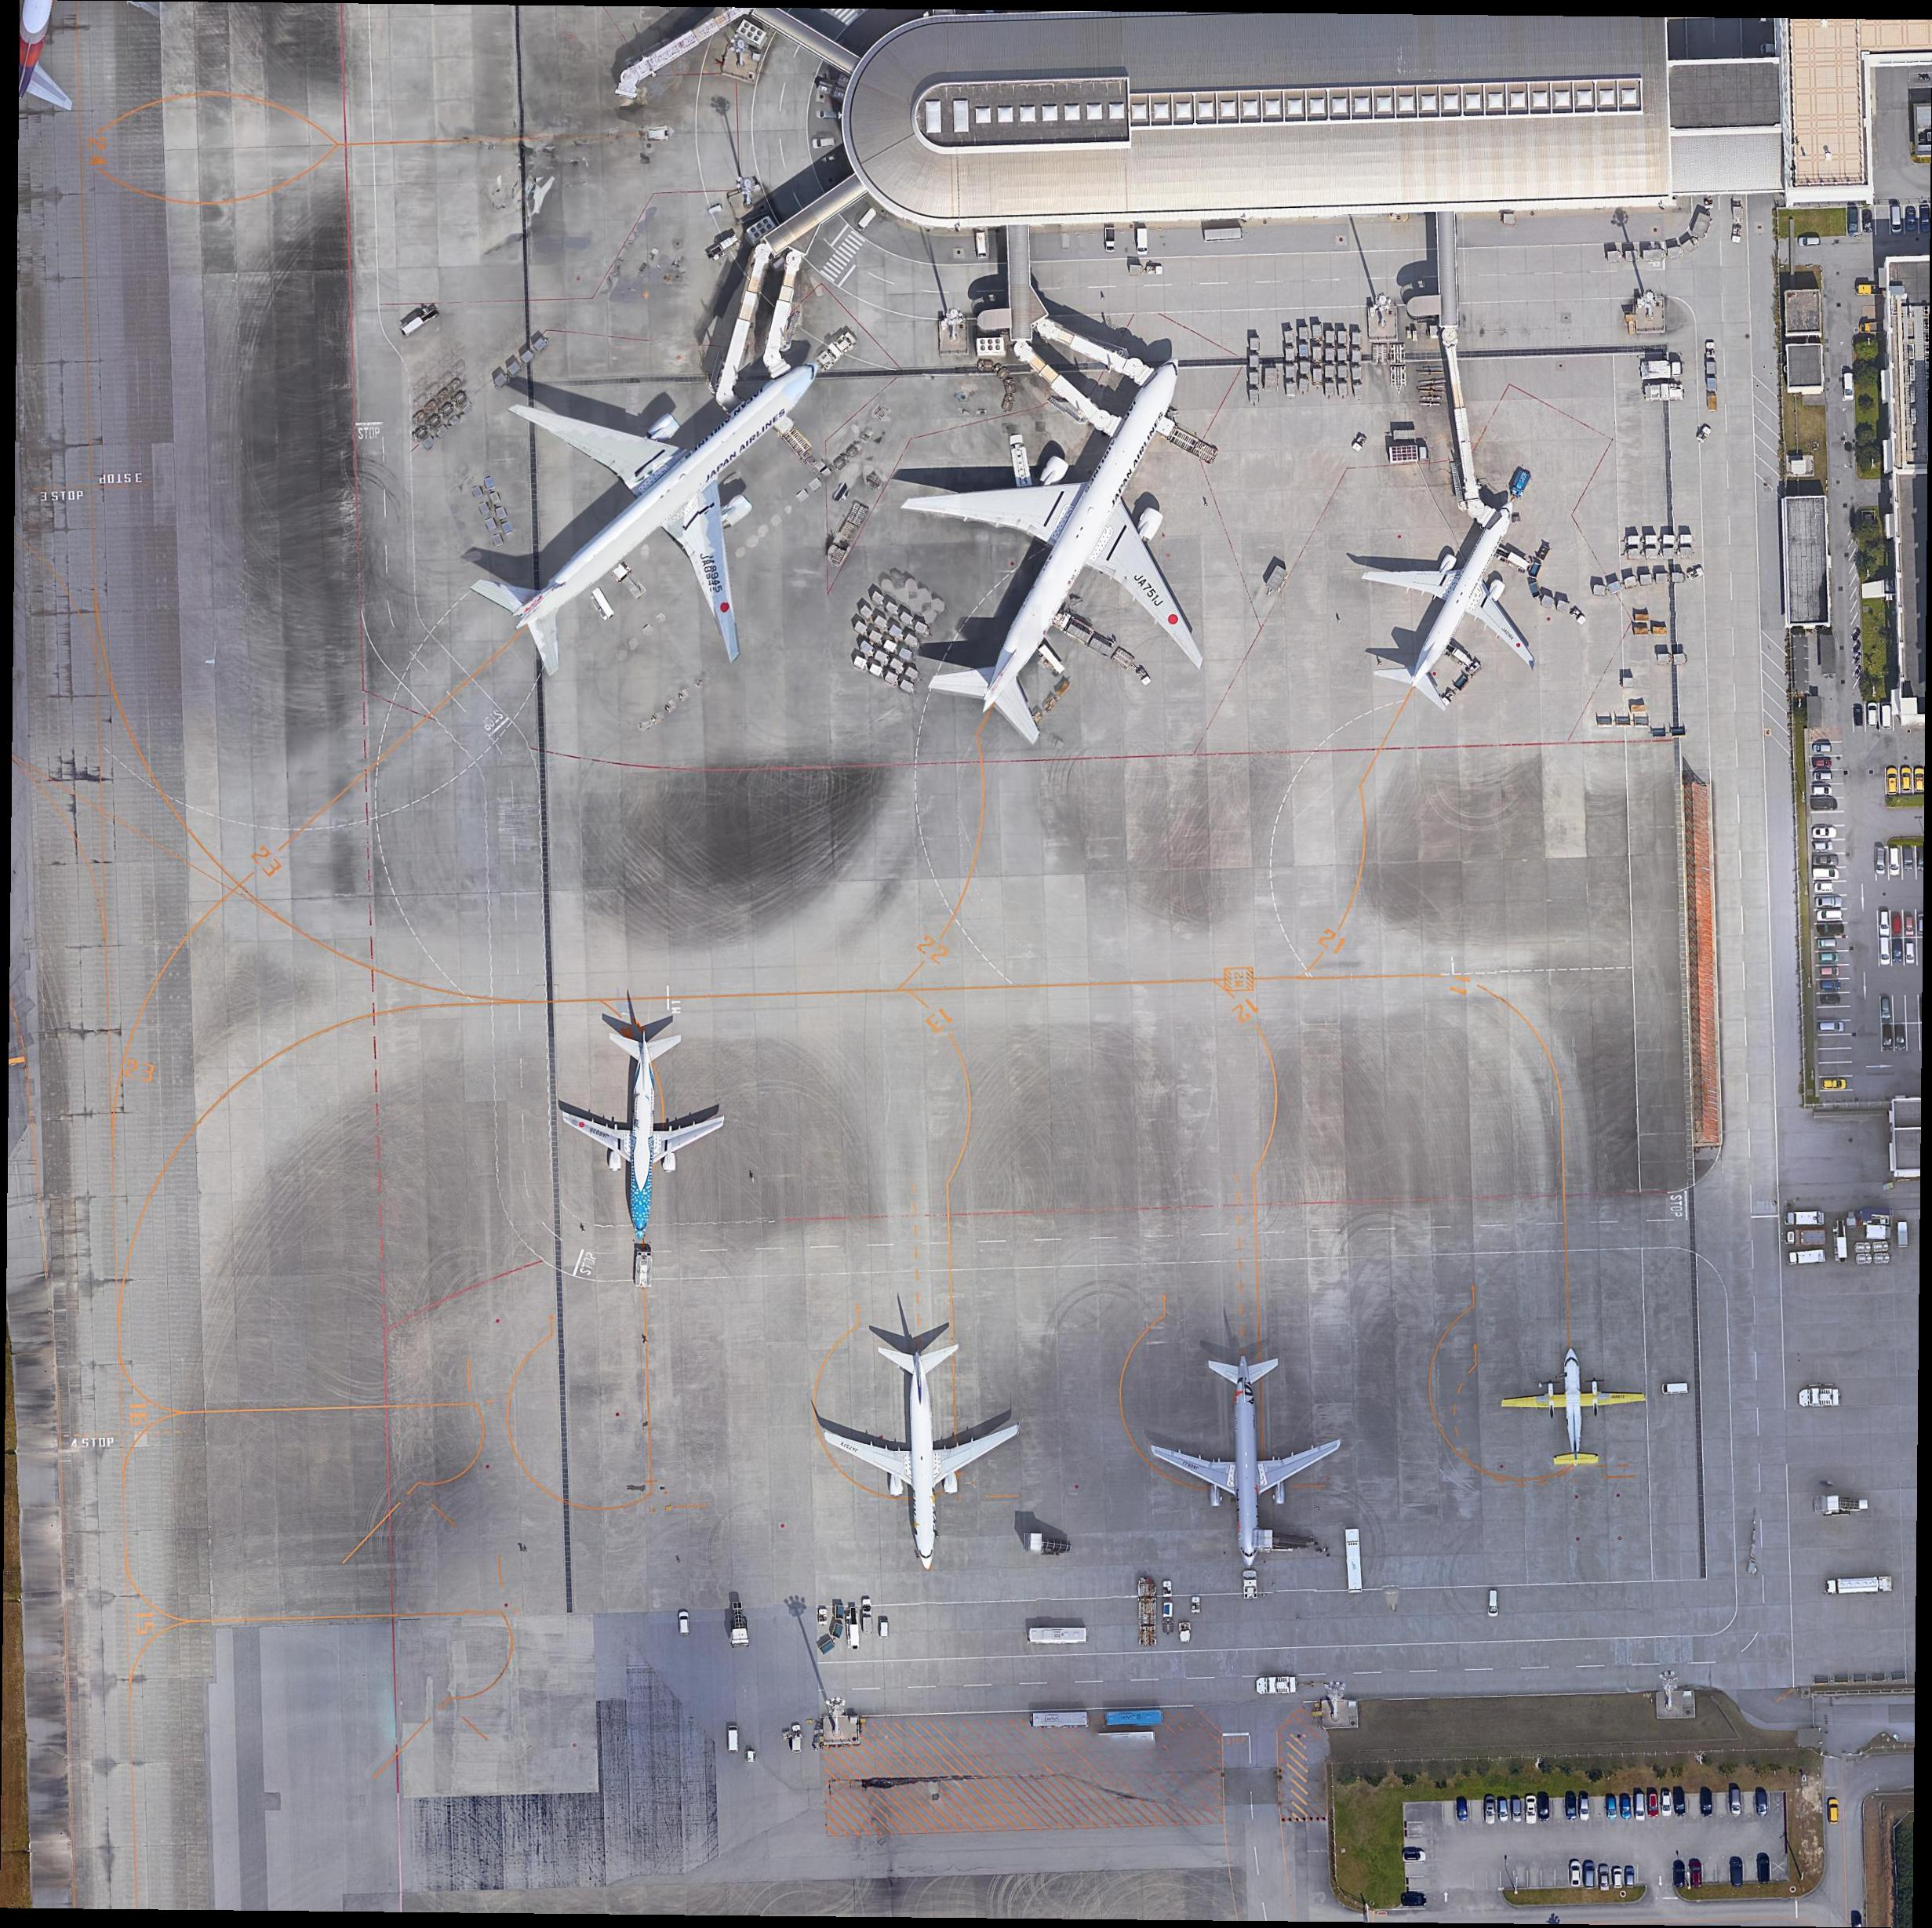plane: (394, 237, 917, 756), (825, 282, 1321, 796), (1328, 470, 1588, 740), (821, 1340, 1030, 1571), (1146, 1349, 1355, 1557), (555, 1028, 733, 1236), (1499, 1347, 1649, 1476)
